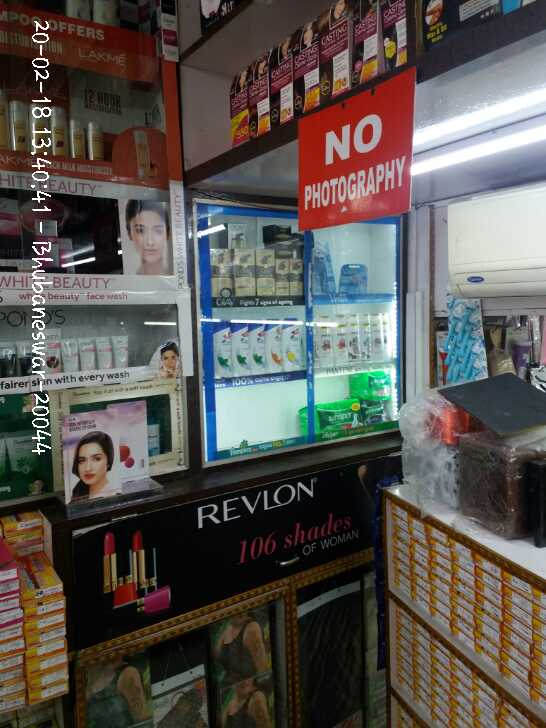venus: (443, 300, 481, 382), (314, 242, 338, 294), (340, 264, 367, 294)
